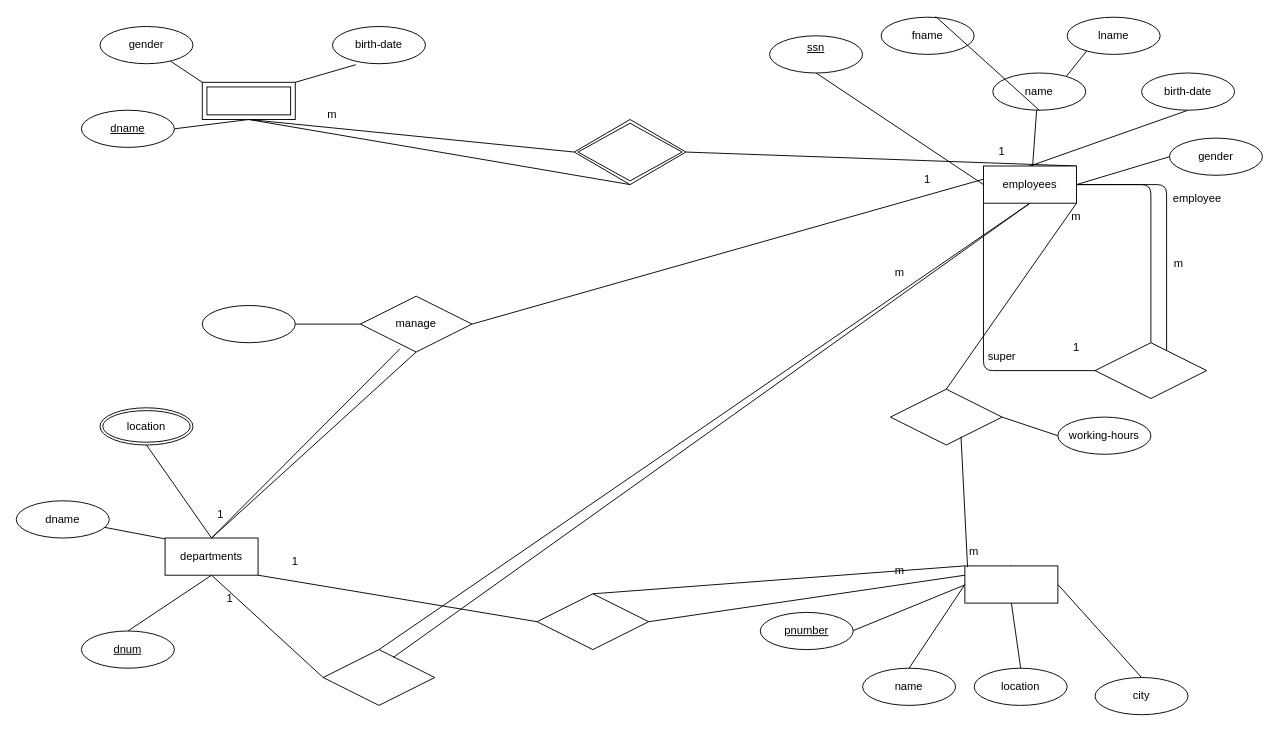
Image size: 1279x731. Some labels were removed from this diagram. Here are the shapes that lost their labels. From the top down, the centre of each, then its label:
At point 248,100: "dependent".
At point 629,152: "has".
At point 248,324: "hiring-Date".
At point 1150,370: "supervisor".
At point 946,416: "work".
At point 1011,584: "projects".
At point 592,621: "controls".
At point 378,677: "works for".
